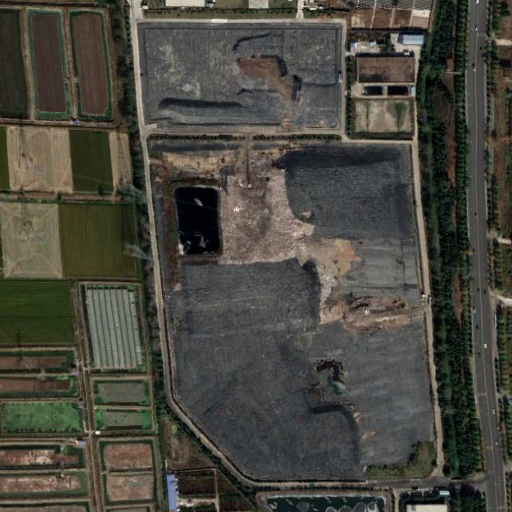lf: (153, 142, 431, 495), (139, 24, 338, 131)
